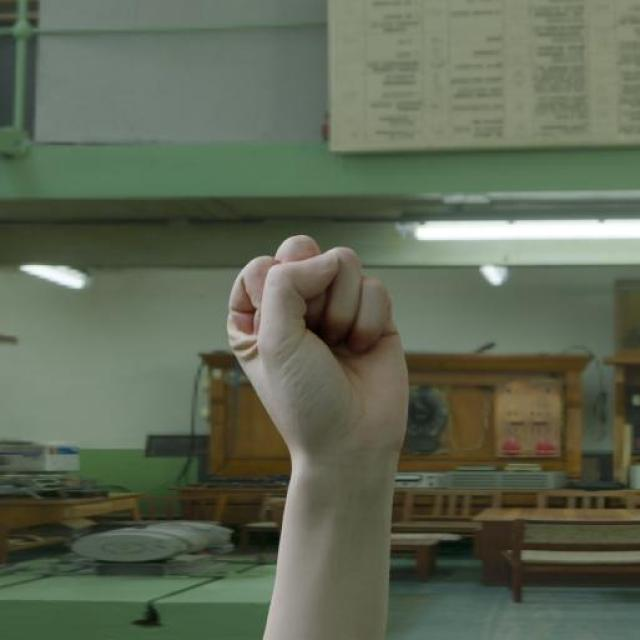S: (220, 230, 415, 470)
